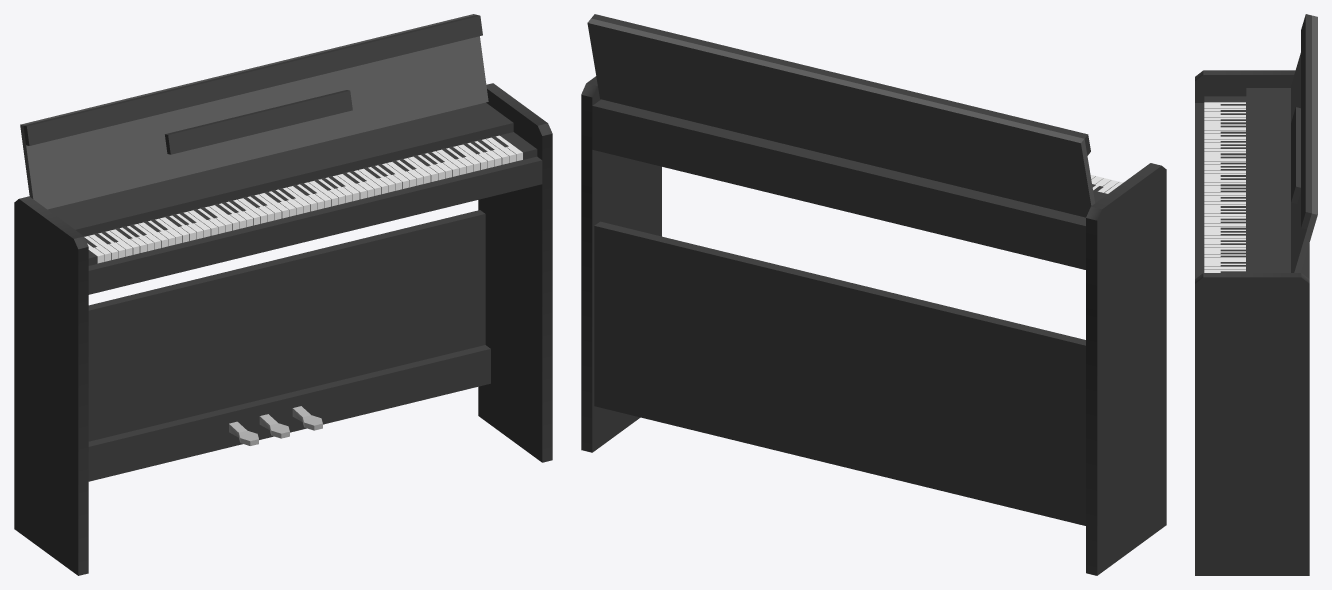
The model's file is Piano.obj.
3 views of the same model, side by side, from view 1: azimuth 30°, elevation 25°; view 2: azimuth 150°, elevation 25°; view 3: azimuth 270°, elevation 25° (orthographic). The views are drawn at different scales.
Visible parts, largest first — view 1: musical_instrument_001; view 2: musical_instrument_001; view 3: musical_instrument_001.
Boxes of the visible parts, x1,y1,x2,y2 form: musical_instrument_001: (14, 14, 552, 575); musical_instrument_001: (581, 14, 1166, 575); musical_instrument_001: (1195, 14, 1317, 575).
Bounding box in the file's own units: 1.25 × 1.01 × 0.3119.
Materials: 1 (1 with a texture image).
